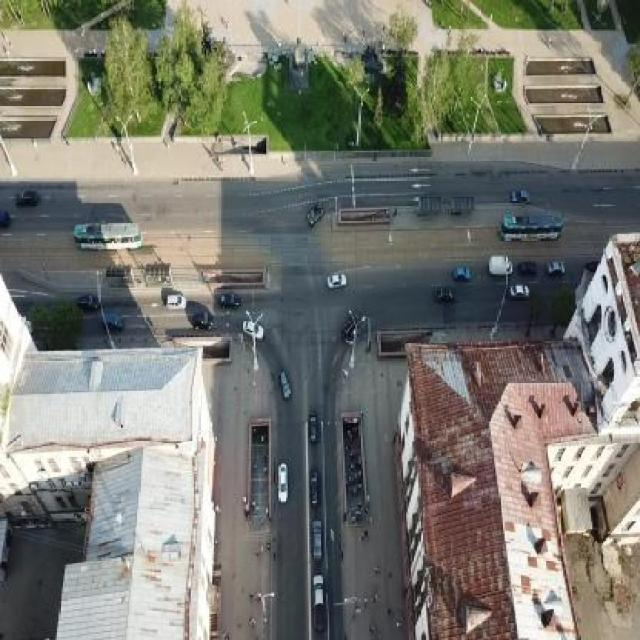bus: (70, 220, 142, 252), (498, 211, 565, 243)
car: (306, 464, 324, 511), (274, 459, 291, 506), (308, 516, 324, 560), (310, 571, 328, 608), (10, 186, 40, 208), (488, 254, 514, 278), (160, 285, 186, 309), (276, 368, 292, 402), (92, 315, 124, 332), (76, 289, 99, 312), (304, 409, 320, 442), (240, 319, 266, 339), (190, 311, 216, 330), (452, 262, 474, 284), (430, 286, 457, 302), (508, 185, 530, 204), (326, 271, 348, 289), (216, 290, 240, 306), (546, 258, 566, 276), (518, 258, 538, 274), (0, 208, 13, 232), (510, 283, 530, 297)
